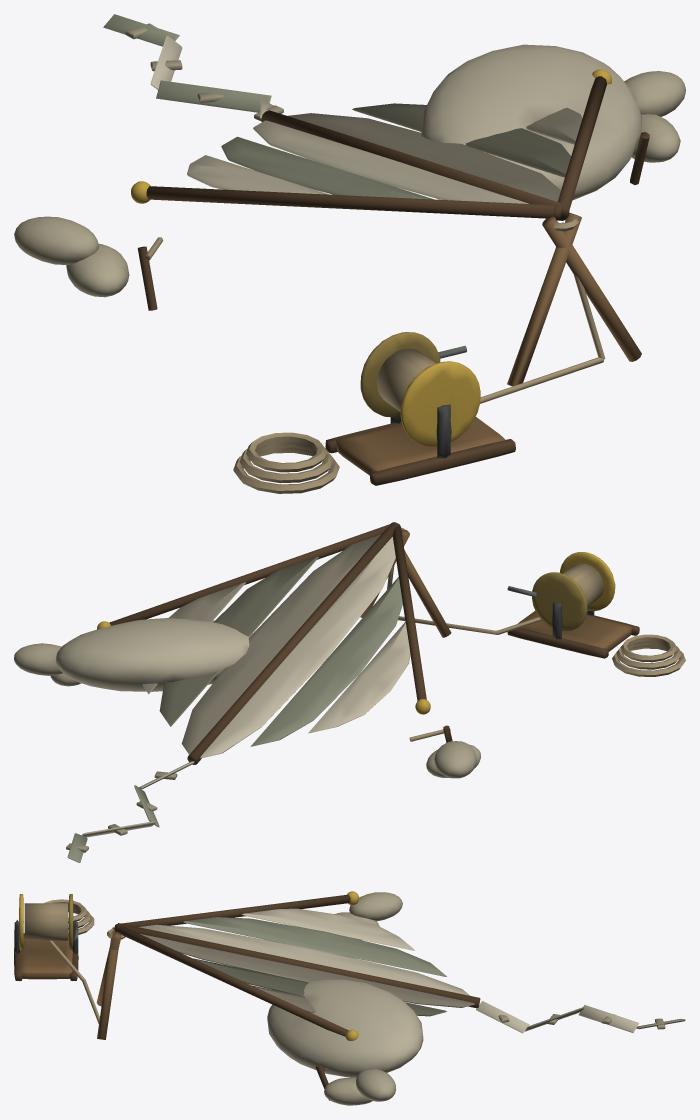
Rendered from moored_kite_b_lod1.glb.
3 views of the same model, one above another, from view 1: azimuth 30°, elevation 25°; view 2: azimuth 150°, elevation 25°; view 3: azimuth 270°, elevation 25° (orthographic). The views are drawn at different scales.
Visible parts, largest first — view 1: Surface.001; view 2: Surface.001; view 3: Surface.001.
Part boxes in pixels (x1=…): Surface.001: x1=14, y1=14, x2=685, y2=493; Surface.001: x1=14, y1=522, x2=685, y2=862; Surface.001: x1=14, y1=891, x2=685, y2=1105.
Bounding box in the file's own units: 6.35 × 1.44 × 8.54.
